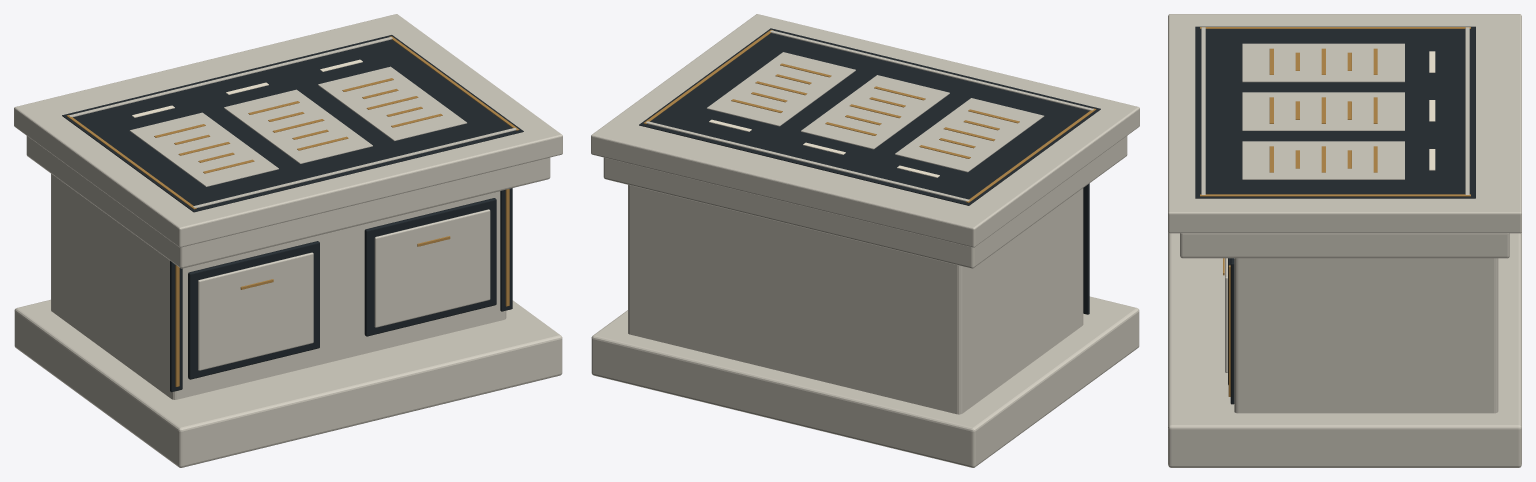
Rendered from SM_Aurelion_KIT_Z07ControlDesk.fbx.
The picture shows the model from 3 angles, left to right: view 1: azimuth 30°, elevation 25°; view 2: azimuth 150°, elevation 25°; view 3: azimuth 270°, elevation 25°; orthographic projection. The views are drawn at different scales.
Parts seen in each view (by area): view 1: SM_Aurelion_KIT_Z07ControlDesk; view 2: SM_Aurelion_KIT_Z07ControlDesk; view 3: SM_Aurelion_KIT_Z07ControlDesk.
Part boxes in pixels (box(x1,y1,x2,y2)): SM_Aurelion_KIT_Z07ControlDesk: box(14, 14, 562, 467); SM_Aurelion_KIT_Z07ControlDesk: box(591, 14, 1139, 467); SM_Aurelion_KIT_Z07ControlDesk: box(1168, 14, 1521, 467).
Size of the model in its own units: 200 by 150 by 121.
